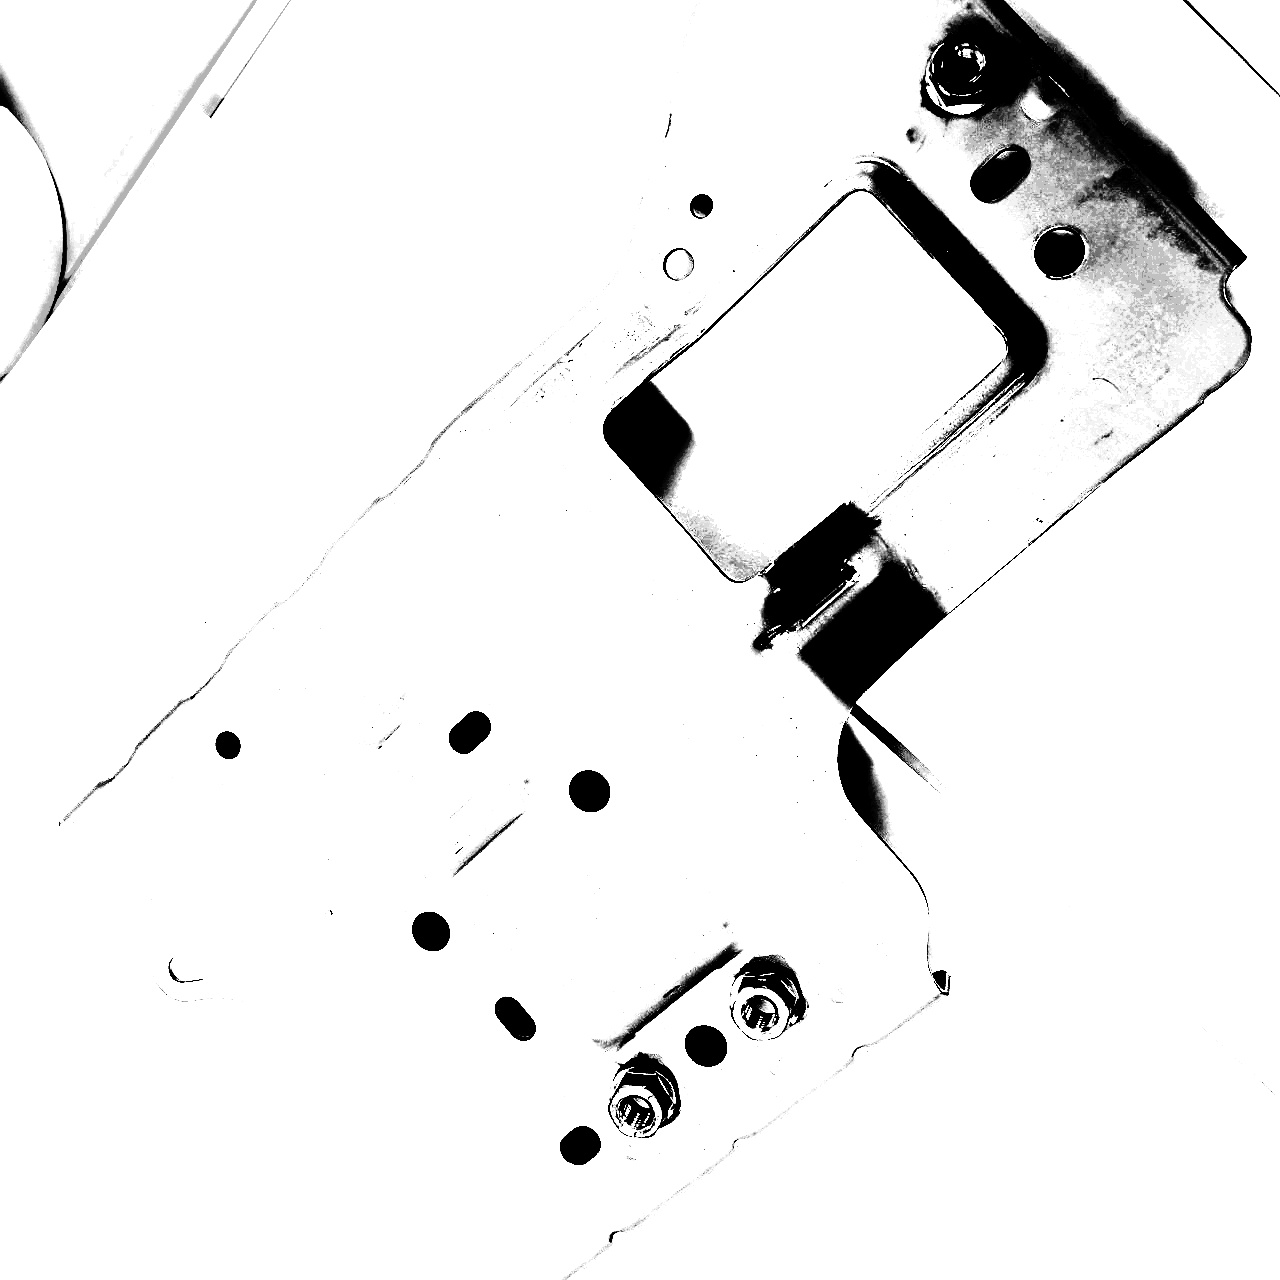dog: (915, 26, 1012, 122), (726, 952, 810, 1046), (602, 1054, 686, 1146)
